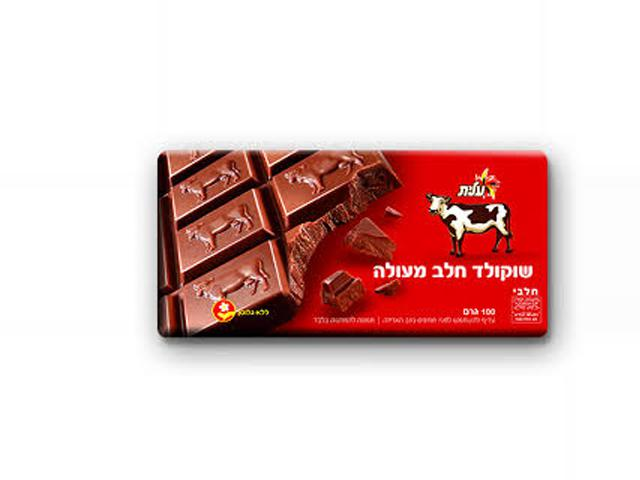chocolate: (148, 141, 558, 351)
